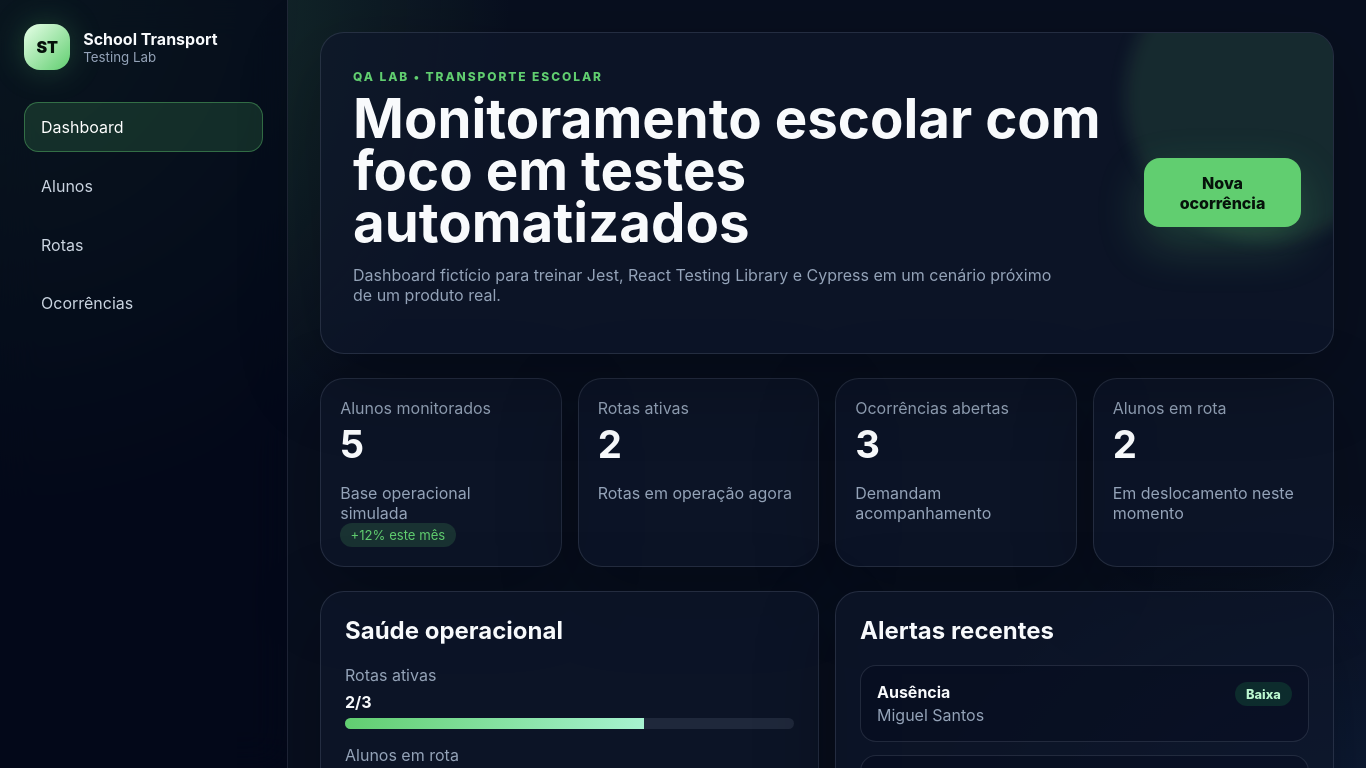
Dashboard › navigates to occurrences from dashboard shortcut
What coordinates should you click on to do the following:
click the button with test id "new-occurrence-shortcut"
I would click on:
 (1223, 194)
Its box is [1144,159,1301,228].
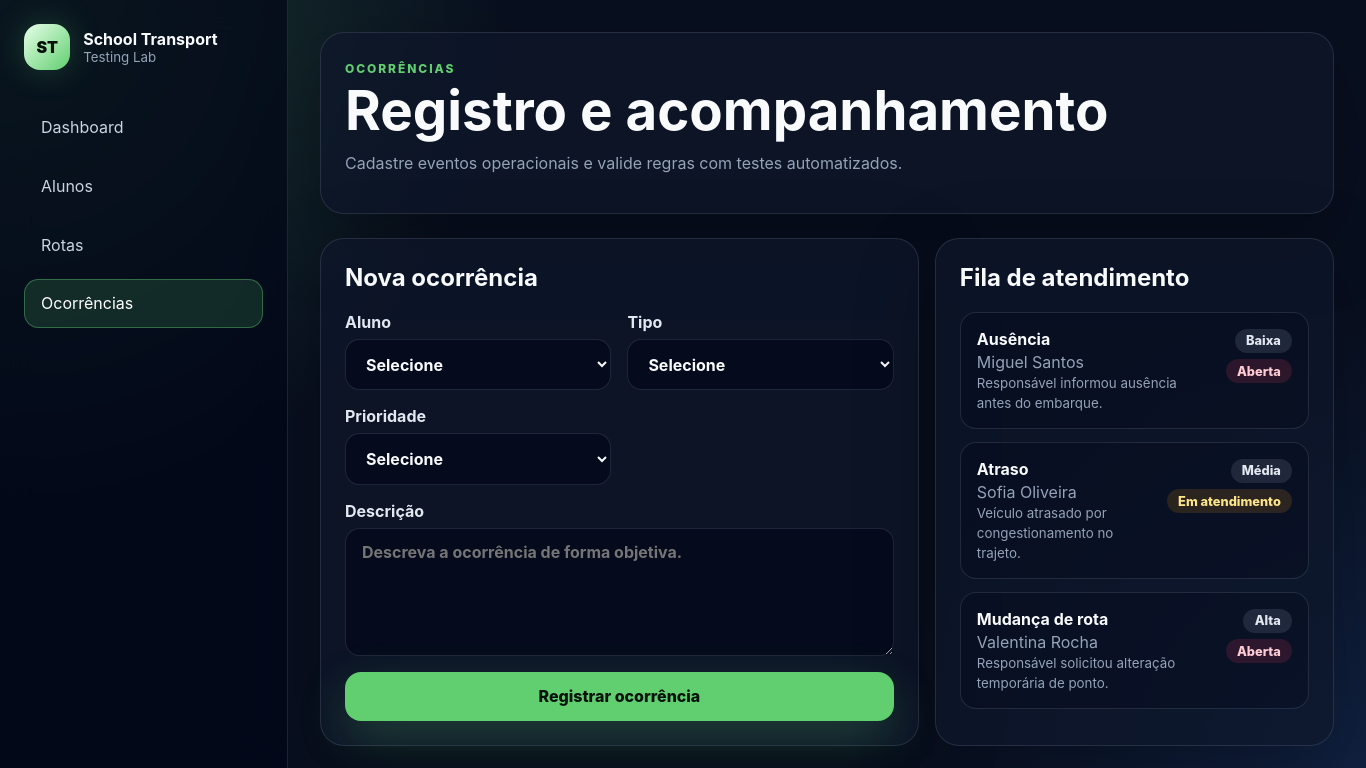
Check: the element with test id "occurrences-page" is shown
